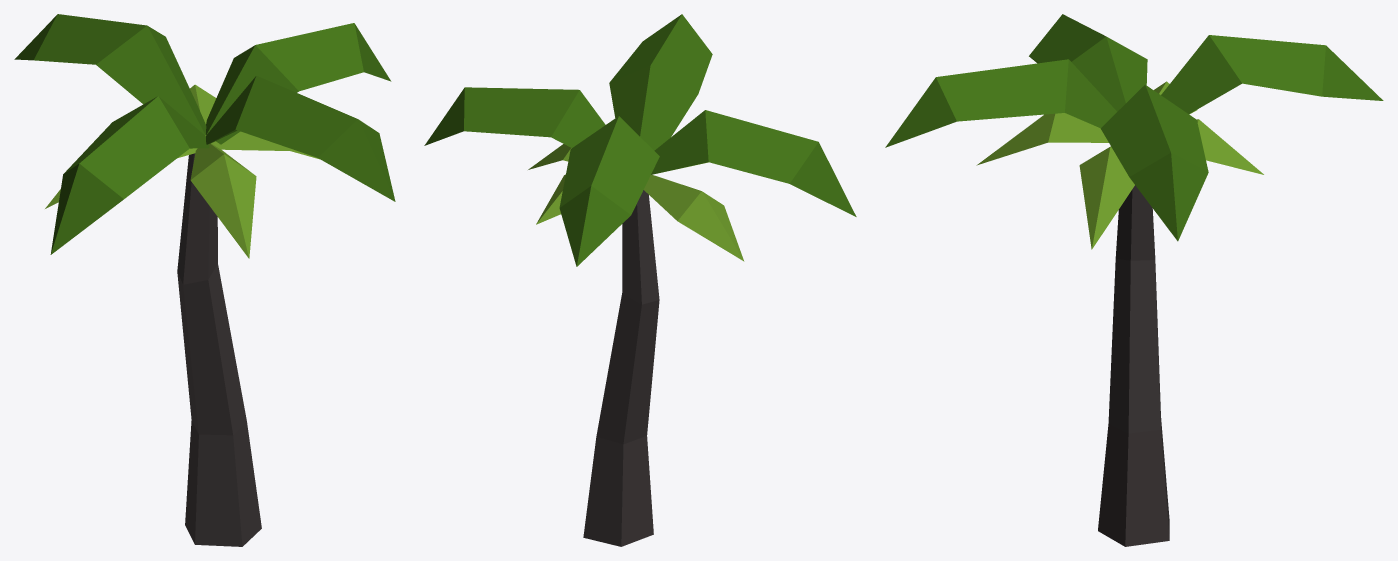
The model's file is TB_D_Env_Tree_PalmC_C.FBX.
The picture shows the model from 3 angles, left to right: view 1: azimuth 30°, elevation 25°; view 2: azimuth 150°, elevation 25°; view 3: azimuth 270°, elevation 25°; orthographic projection. The views are drawn at different scales.
Visible parts, largest first — view 1: TB_D_Env_Tree_PalmC_C; view 2: TB_D_Env_Tree_PalmC_C; view 3: TB_D_Env_Tree_PalmC_C.
Part boxes in pixels (x1,y1,x2,y2): TB_D_Env_Tree_PalmC_C: [14, 14, 395, 546]; TB_D_Env_Tree_PalmC_C: [424, 14, 856, 546]; TB_D_Env_Tree_PalmC_C: [885, 14, 1383, 546].
Size of the model in its own units: 2.78 by 3.2 by 3.03.
